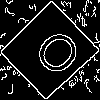O: (24, 26, 86, 86)
